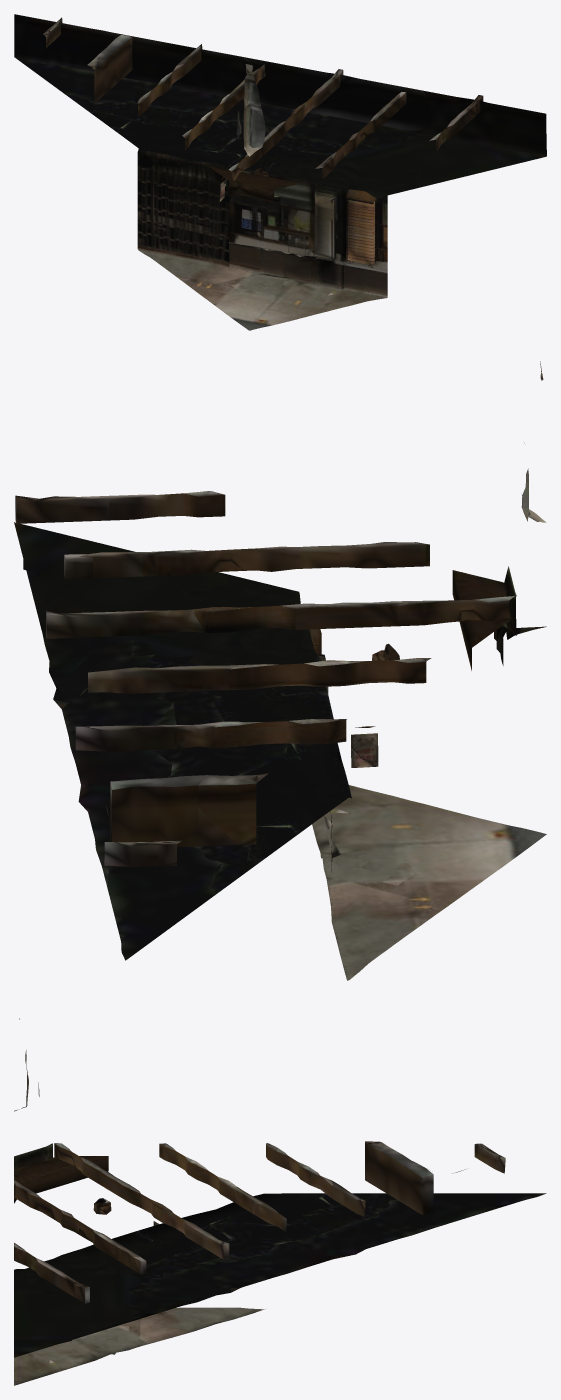
The picture shows the model from 3 angles, top to bottom: view 1: azimuth 30°, elevation 25°; view 2: azimuth 150°, elevation 25°; view 3: azimuth 270°, elevation 25°; orthographic projection. The views are drawn at different scales.
Bounding box in the file's own units: 9.78 × 8.33 × 13.39.
Materials: 1 (1 with a texture image).
